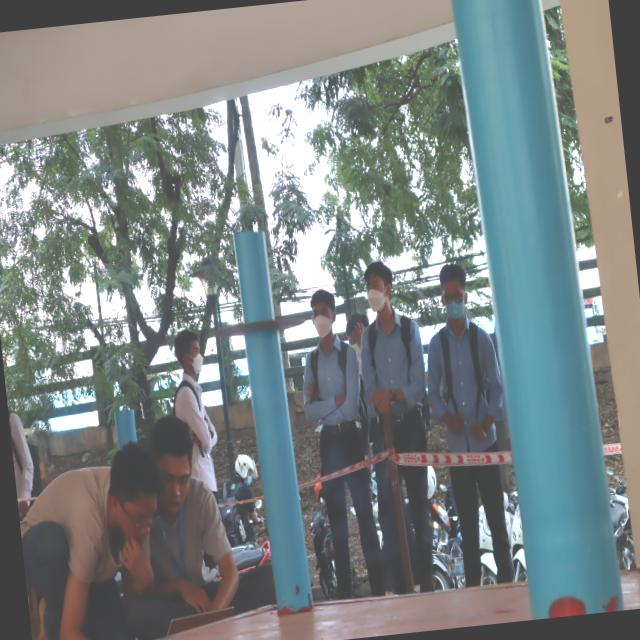pole: (204, 224, 307, 408)
